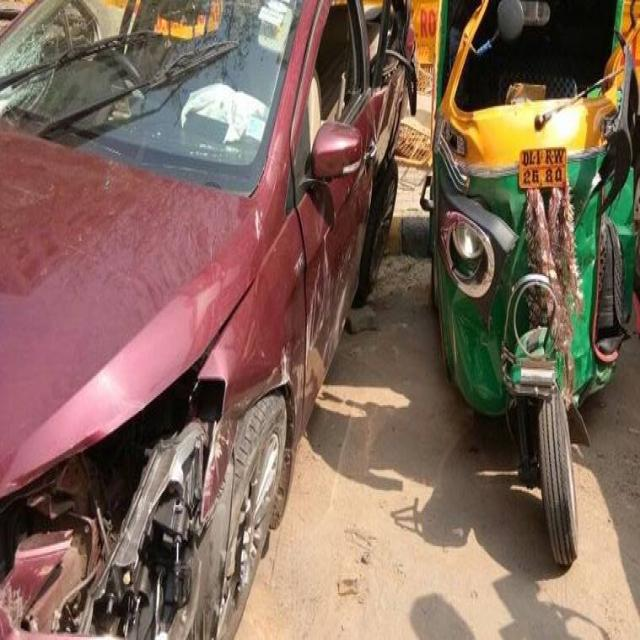accident: (0, 0, 415, 637), (421, 0, 640, 564)
